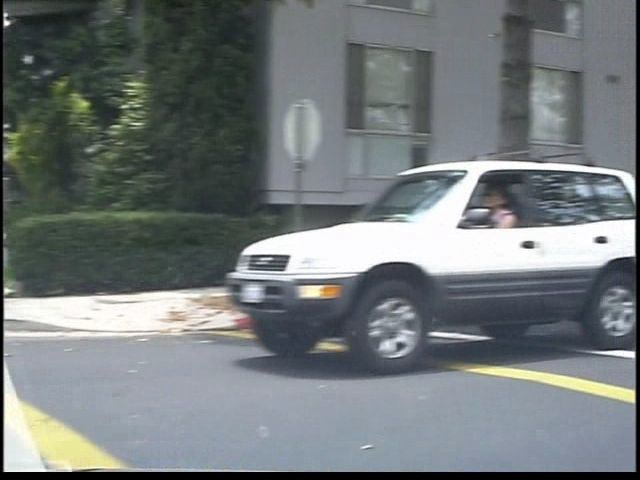person: (490, 174, 540, 353)
